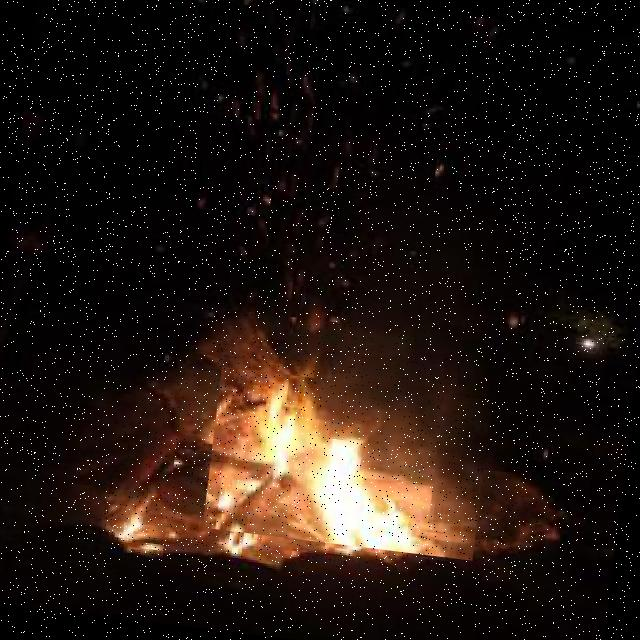fire: (202, 367, 492, 560)
